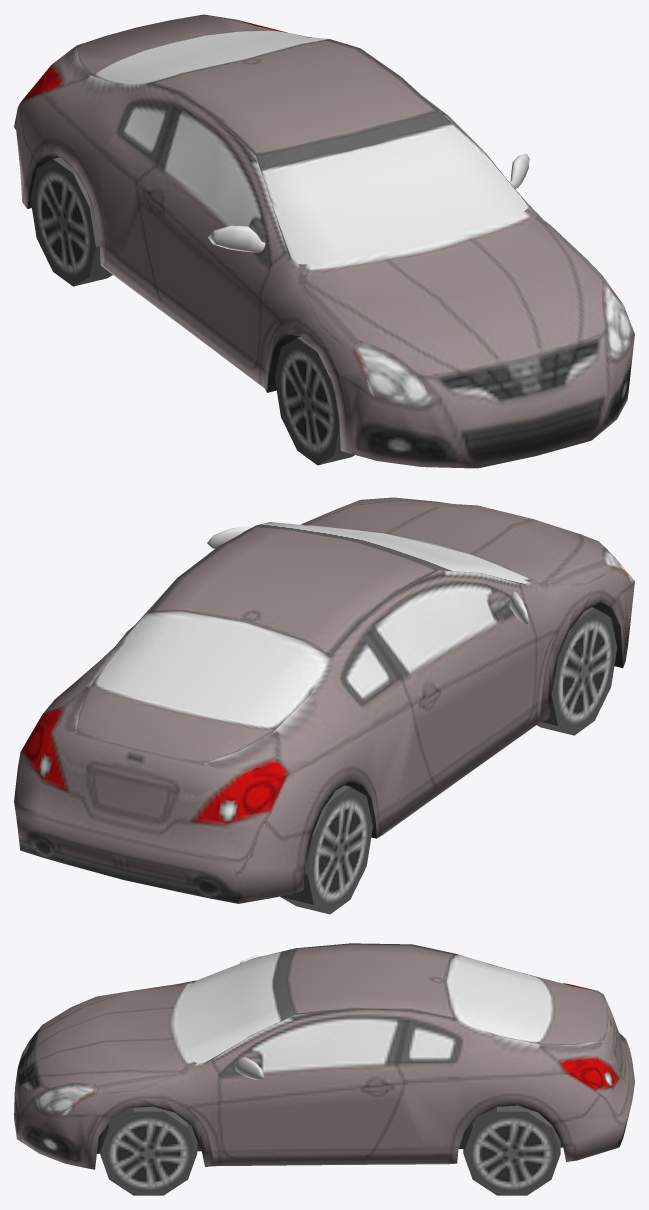
Rendered from 2010 Nissan Altima Coupe 2_5 S.fbx.
3 views of the same model, one above another, from view 1: azimuth 30°, elevation 25°; view 2: azimuth 150°, elevation 25°; view 3: azimuth 270°, elevation 25° (orthographic). The views are drawn at different scales.
Visible parts, largest first — view 1: Plane, Cylinder.003, Cylinder.002, Cube; view 2: Plane, Cylinder.003, Cylinder.002, Cube; view 3: Plane, Cylinder.001, Cylinder, Cube.
Boxes of the visible parts, x1=… form: Plane: x1=14, y1=14, x2=634, y2=468; Cylinder.003: x1=30, y1=157, x2=112, y2=286; Cylinder.002: x1=274, y1=336, x2=354, y2=465; Cube: x1=208, y1=154, x2=529, y2=252; Plane: x1=14, y1=497, x2=634, y2=903; Cylinder.003: x1=280, y1=785, x2=372, y2=914; Cylinder.002: x1=537, y1=607, x2=617, y2=735; Cube: x1=207, y1=526, x2=528, y2=625; Plane: x1=14, y1=943, x2=634, y2=1169; Cylinder.001: x1=463, y1=1105, x2=560, y2=1195; Cylinder: x1=100, y1=1106, x2=197, y2=1195; Cube: x1=234, y1=956, x2=263, y2=1080.
Size of the model in its own units: 138 by 93.58 by 309.
